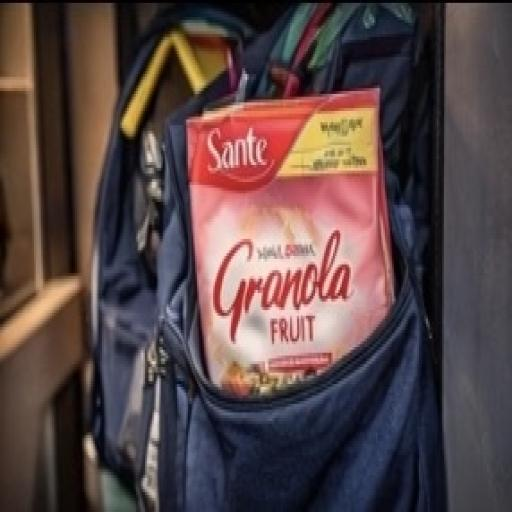granola: (163, 88, 438, 430)
